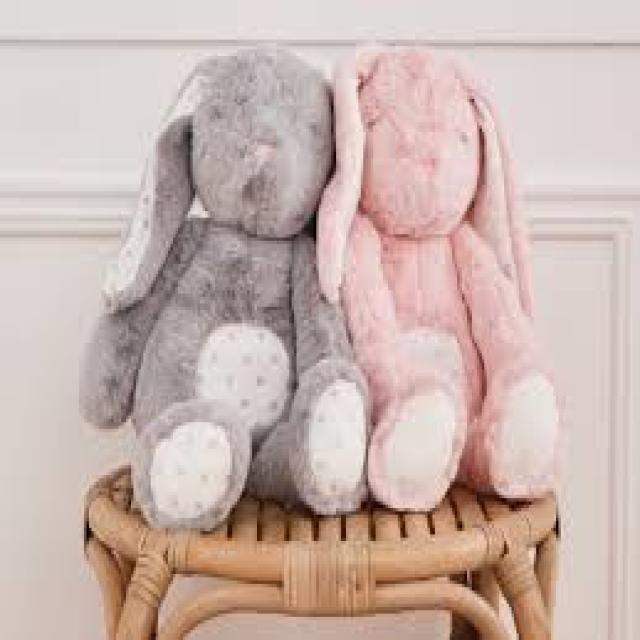soft-toy: (82, 53, 369, 531), (319, 53, 559, 511)
